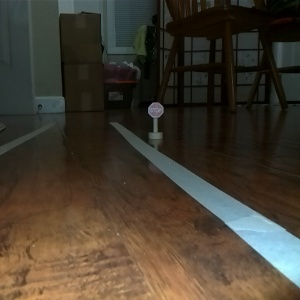stop sign: (144, 100, 166, 141)
